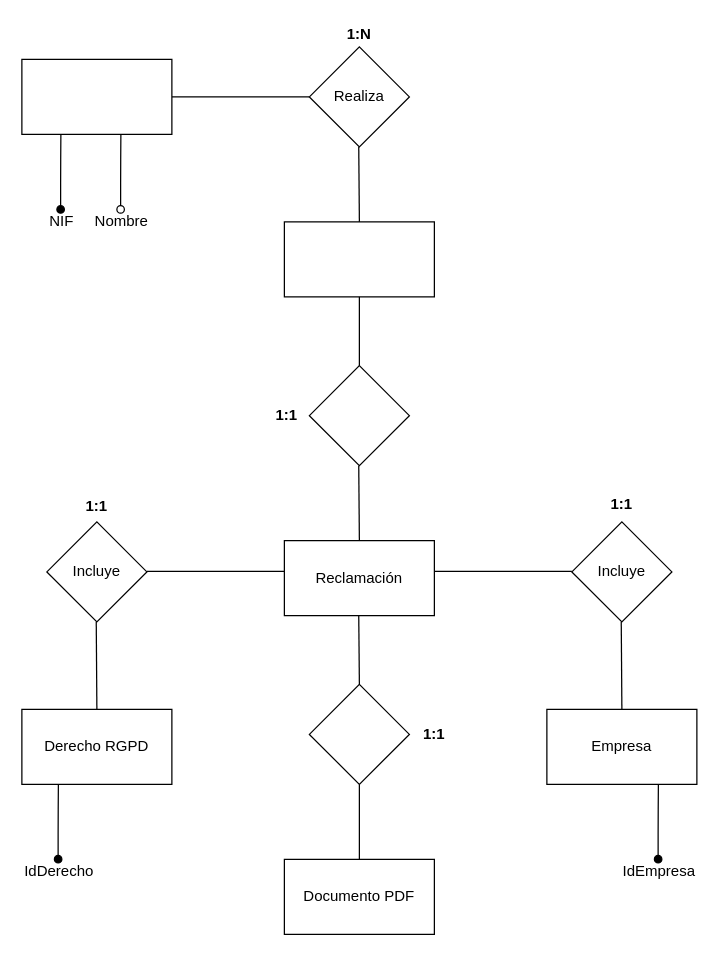
Image size: 719x956. Some labels were removed from this diagram. The shapes that lost their labels are listed below. From the top down, each one's centre as x and y in pixels, then its label:
[96,96]: Interesado
[358,259]: Solicitud
[358,415]: Inicia
[358,733]: Genera
